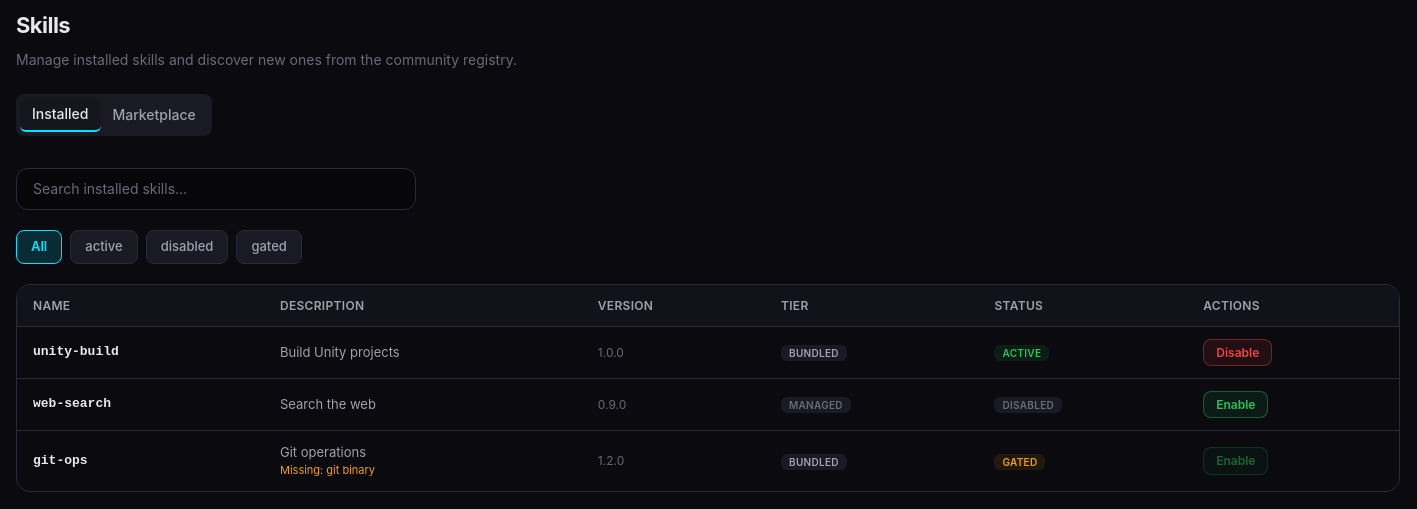
SkillsPage › surfaces an error (not a silent unhandled rejection) when a toggle request fails
Click the button with aria-label "web-search".
click(1236, 404)  # box [1203,391,1268,418]
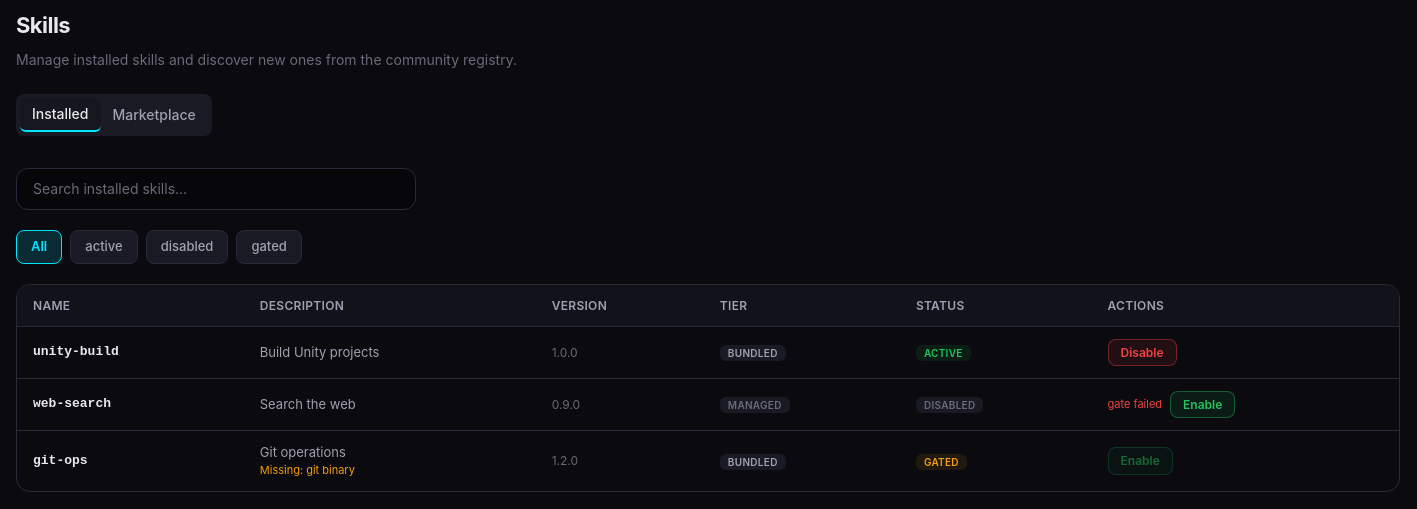
Expected: the message reads "gate failed", [1108,396,1162,410]
